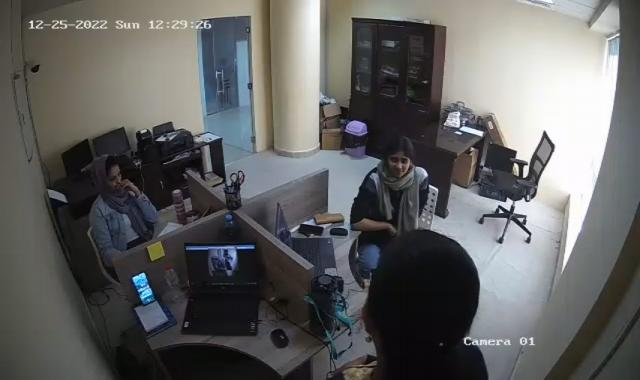no_hairnet: (360, 236, 485, 365), (384, 137, 412, 178), (91, 154, 123, 186)
